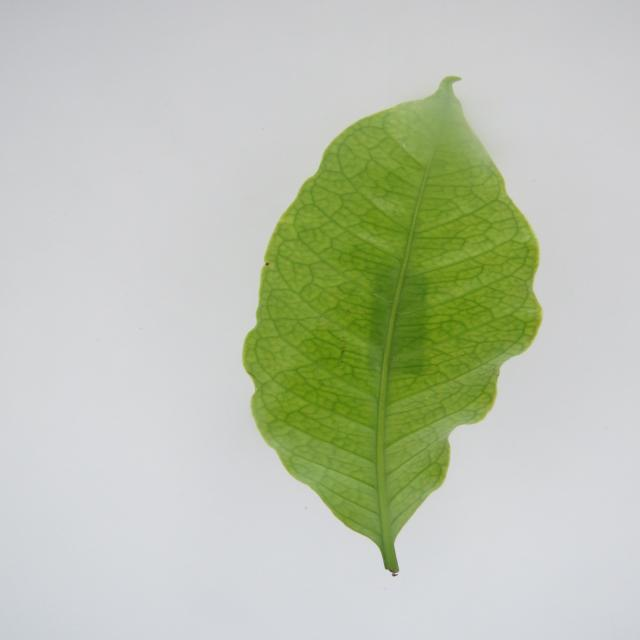DeficienciaNutricional-Calcio: (243, 76, 542, 574)
